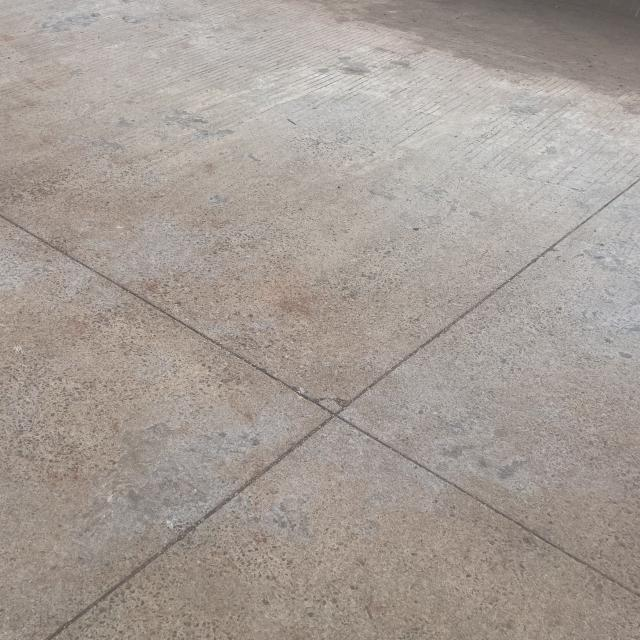D43: (15, 189, 639, 632)
